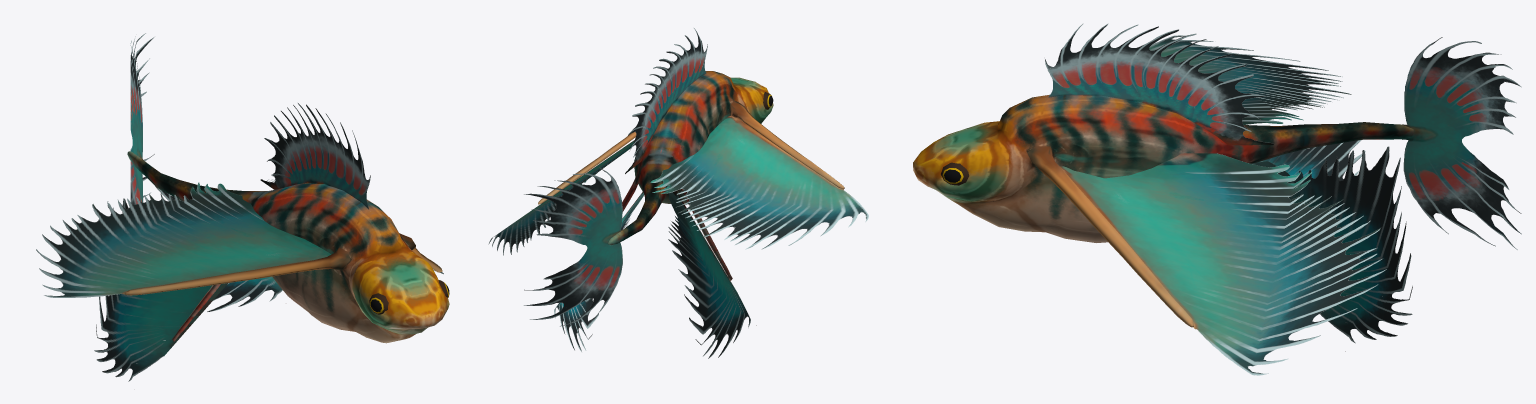
The model's file is fish_000046.obj.
3 renders of one model, left to right at view 1: azimuth 30°, elevation 25°; view 2: azimuth 150°, elevation 25°; view 3: azimuth 270°, elevation 25°, orthographic. The views are drawn at different scales.
Parts seen in each view (by area): view 1: flyingFish_low_StingrayPBS1_0; view 2: flyingFish_low_StingrayPBS1_0; view 3: flyingFish_low_StingrayPBS1_0.
Boxes of the visible parts, x1,y1,x2,y2 form: flyingFish_low_StingrayPBS1_0: (36,33,449,381); flyingFish_low_StingrayPBS1_0: (488,28,868,358); flyingFish_low_StingrayPBS1_0: (913,23,1521,375).
Size of the model in its own units: 17.77 by 11.89 by 19.22.
Materials: 1 (1 with a texture image).
